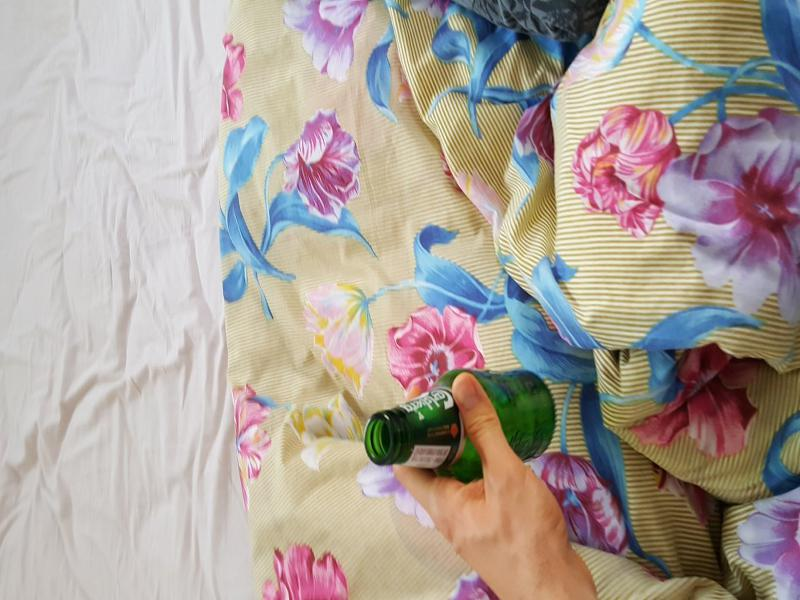Beer: (367, 371, 556, 483)
